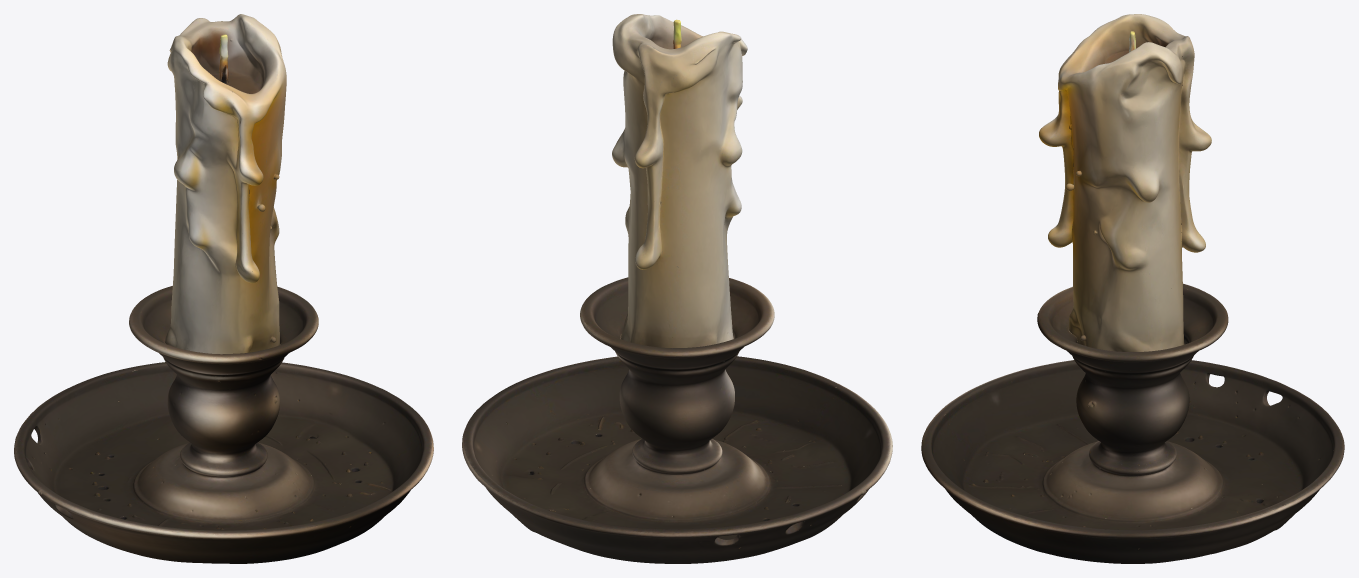
File: antique+candle+3d+model.glb
3 views of the same model, side by side, from view 1: azimuth 30°, elevation 25°; view 2: azimuth 150°, elevation 25°; view 3: azimuth 270°, elevation 25° (orthographic). The views are drawn at different scales.
Visible parts, largest first — view 1: tripo_node_997a801a-7f28-44f1-bf31-8fd7ec2f964f; view 2: tripo_node_997a801a-7f28-44f1-bf31-8fd7ec2f964f; view 3: tripo_node_997a801a-7f28-44f1-bf31-8fd7ec2f964f.
Part boxes in pixels (x1=…): tripo_node_997a801a-7f28-44f1-bf31-8fd7ec2f964f: x1=14, y1=14, x2=433, y2=563; tripo_node_997a801a-7f28-44f1-bf31-8fd7ec2f964f: x1=462, y1=14, x2=892, y2=563; tripo_node_997a801a-7f28-44f1-bf31-8fd7ec2f964f: x1=921, y1=14, x2=1344, y2=563.
Size of the model in its own units: 0.8215 by 1 by 0.8187.
1 material, 1 textured.
